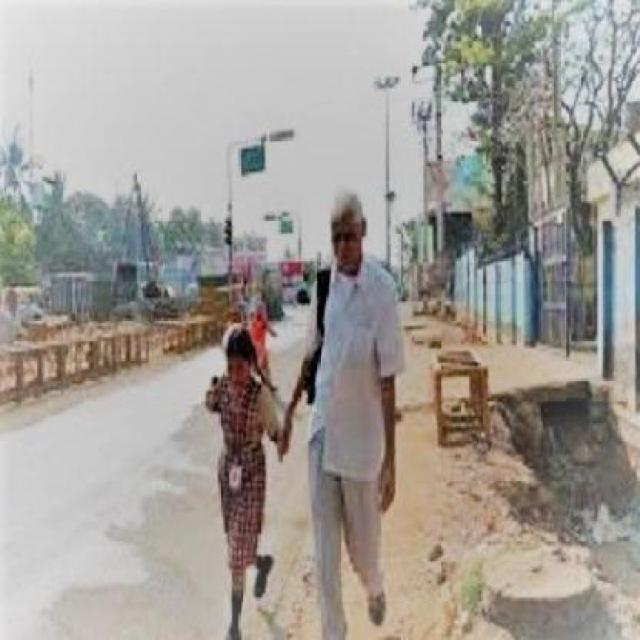Person: (281, 186, 410, 639), (182, 312, 286, 638)
